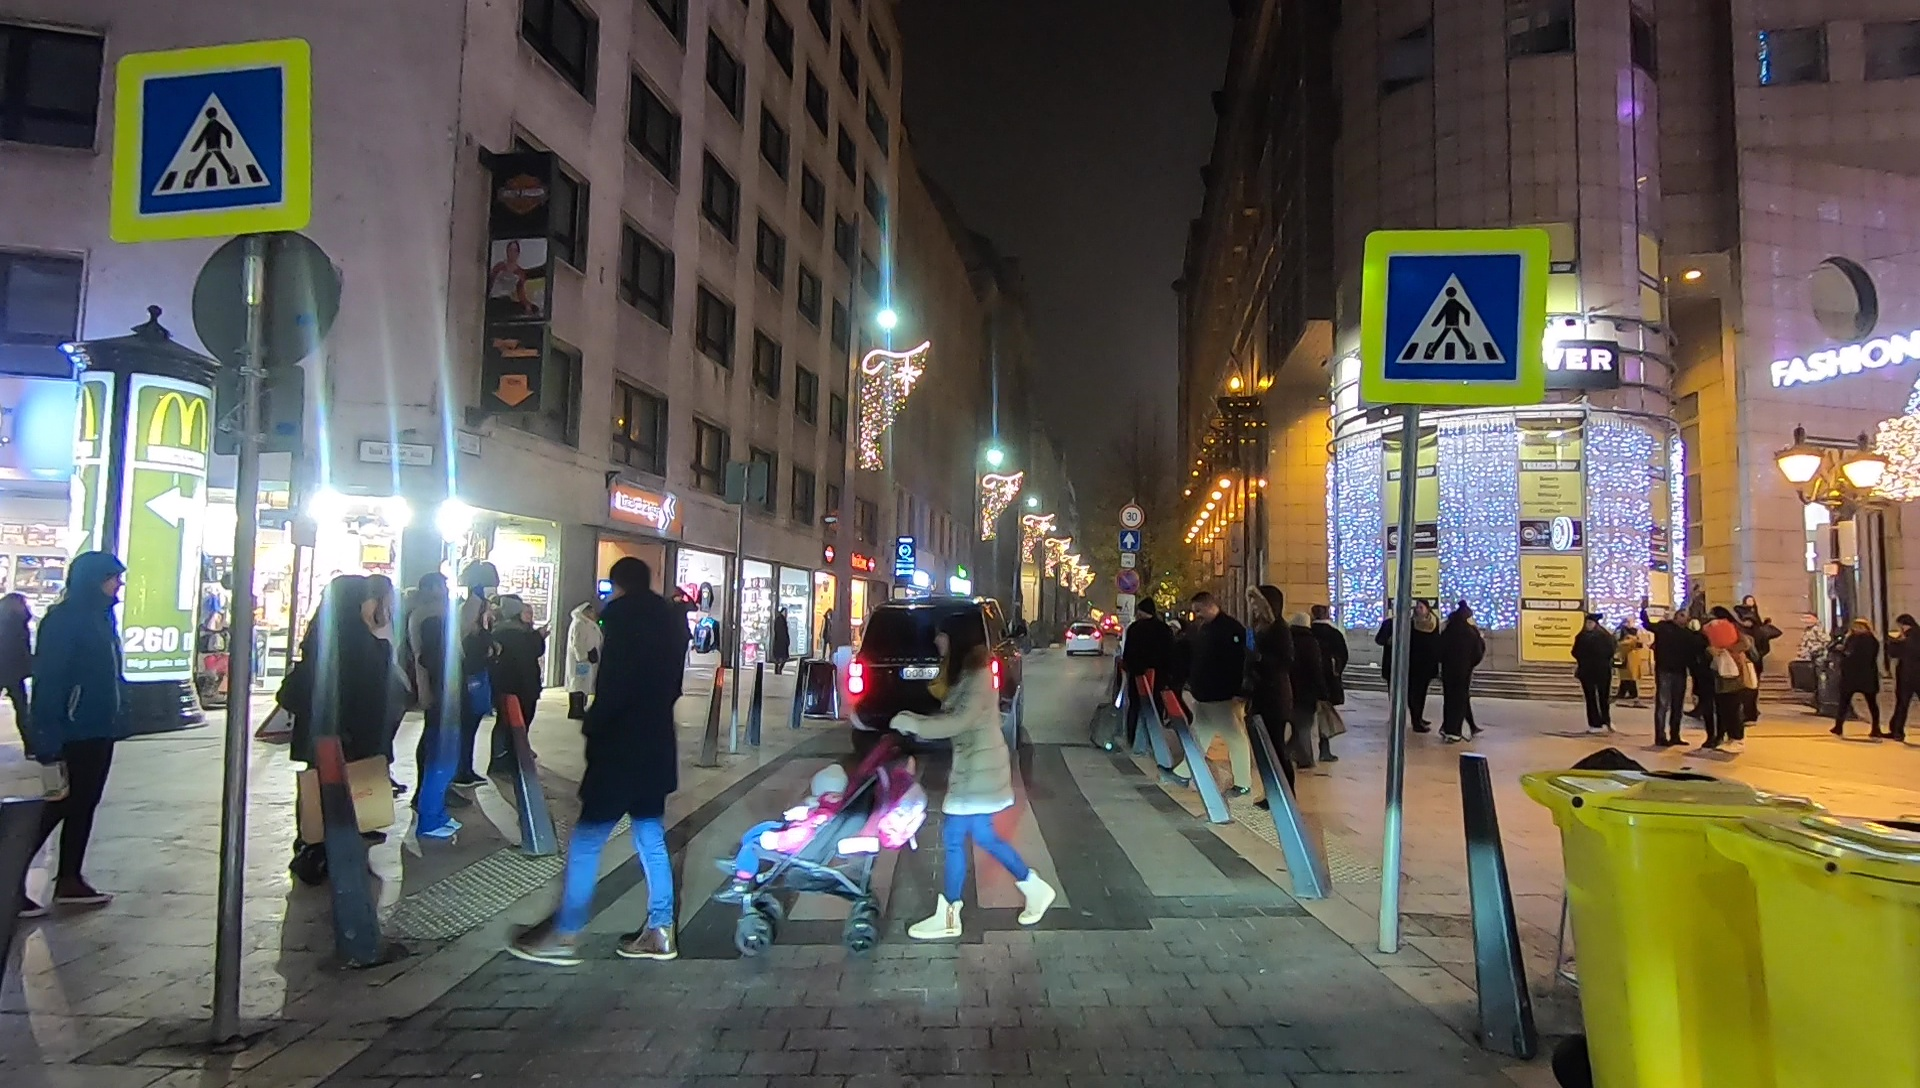person: (521, 565, 688, 965), (911, 628, 1056, 939), (288, 567, 393, 884), (32, 556, 119, 913), (1169, 593, 1257, 787), (412, 576, 462, 841), (1250, 584, 1297, 809), (493, 597, 544, 770), (1689, 619, 1749, 756), (1638, 599, 1689, 747), (1123, 600, 1168, 748), (1834, 619, 1885, 741), (1311, 600, 1348, 764), (1441, 603, 1484, 743), (1572, 614, 1618, 738), (1732, 592, 1778, 710), (1889, 616, 1920, 738), (1284, 609, 1309, 763), (1798, 617, 1835, 717), (1412, 598, 1436, 736), (1618, 620, 1643, 706), (770, 607, 789, 675)
